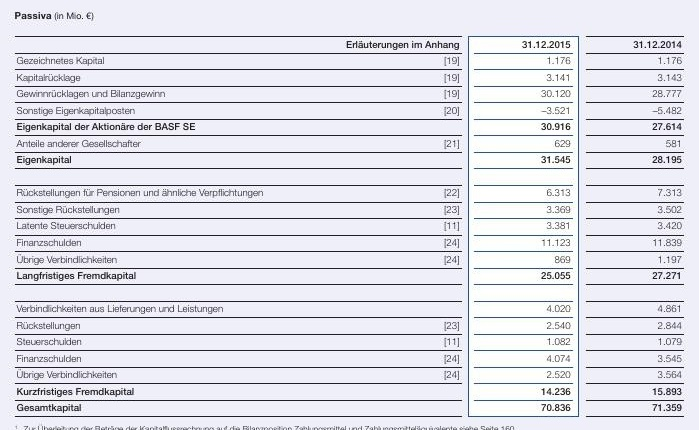table: (0, 0, 699, 430)
